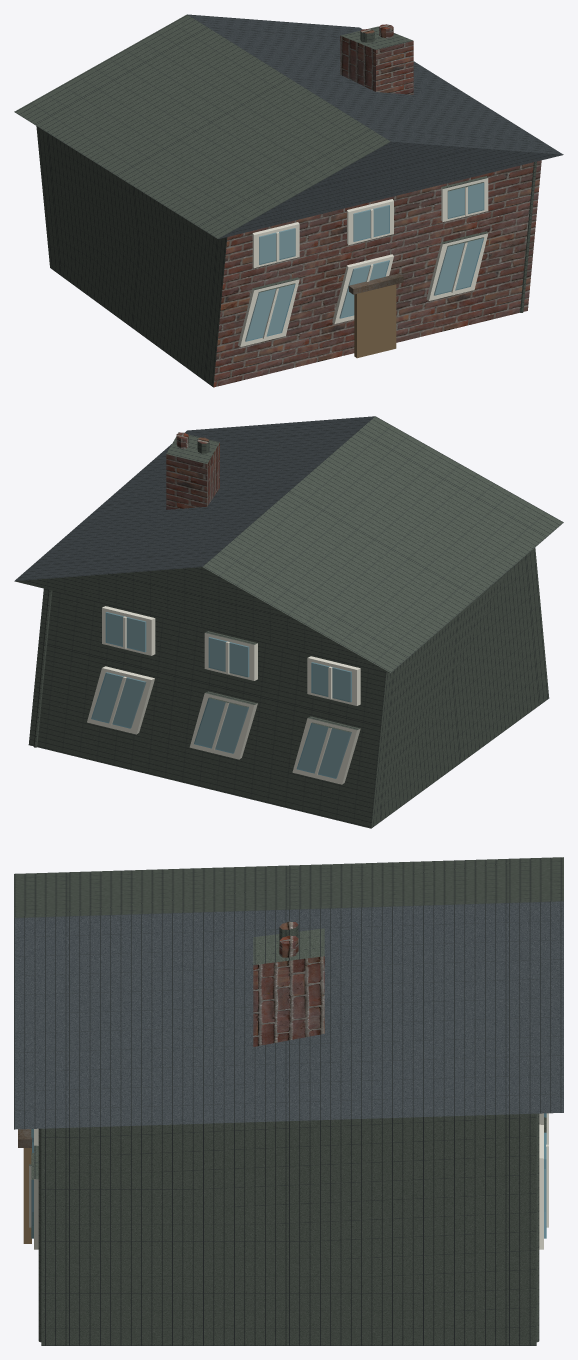
Rendered from damaged2.gltf.
3 renders of one model, top to bottom at view 1: azimuth 30°, elevation 25°; view 2: azimuth 150°, elevation 25°; view 3: azimuth 270°, elevation 25°, orthographic. The views are drawn at different scales.
Parts seen in each view (by area): view 1: britaincottage_damaged2; view 2: britaincottage_damaged2; view 3: britaincottage_damaged2.
Boxes of the visible parts, x1,y1,x2,y2 form: britaincottage_damaged2: (14, 14, 563, 387); britaincottage_damaged2: (14, 416, 563, 828); britaincottage_damaged2: (14, 857, 563, 1345).
Size of the model in its own units: 23.44 by 14.52 by 20.
Materials: 8 (5 with a texture image).
